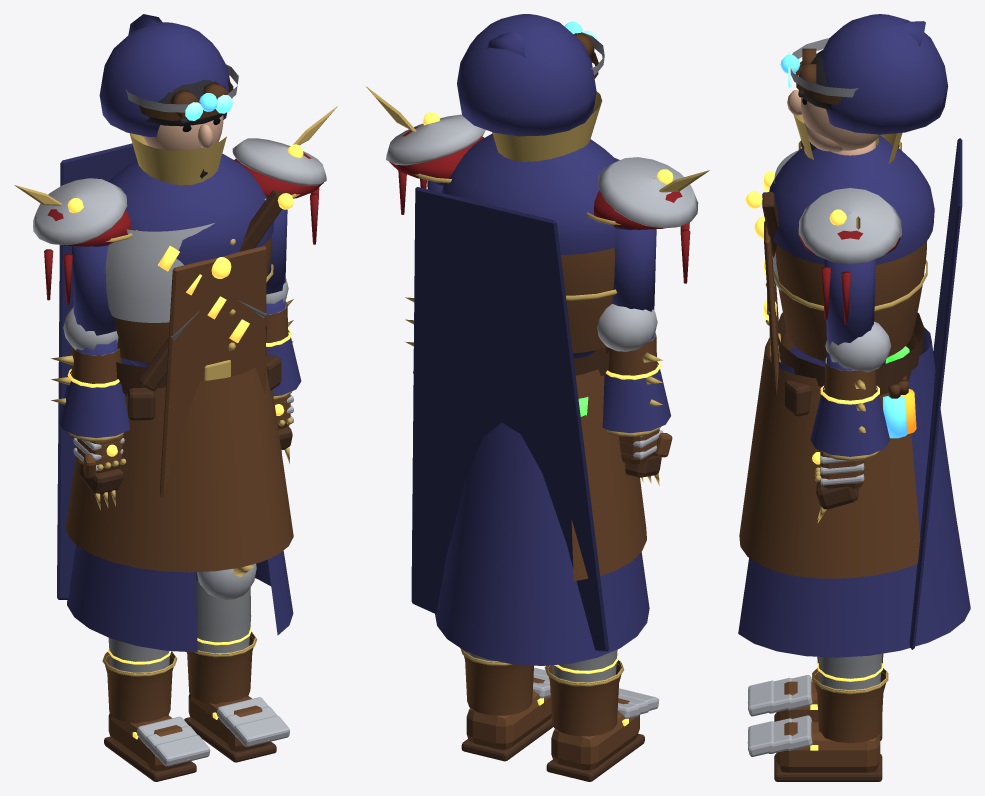
File: hero_alchemist.glb
The picture shows the model from 3 angles, left to right: view 1: azimuth 30°, elevation 25°; view 2: azimuth 150°, elevation 25°; view 3: azimuth 270°, elevation 25°; orthographic projection. The views are drawn at different scales.
Parts seen in each view (by area): view 1: coattail, apron, robeskirt, mantle, hood, breastplate, cape, disc.001, sleeve.001, cuff.001, upperarm.001, cuff (+27 smaller); view 2: cape, robeskirt, hood, mantle, coattail, disc.001, coat, cuff.001, sleeve.001, cuff, upperarm.001, disc (+14 smaller); view 3: robeskirt, coattail, hood, mantle, coat, disc, cape, sleeve, cuff, boot, upperarm, belt.001 (+27 smaller).
Boxes of the visible parts, x1,y1,x2,y2 form: coattail: [65, 347, 293, 572]; apron: [160, 246, 266, 497]; robeskirt: [67, 544, 293, 652]; mantle: [108, 153, 273, 265]; hood: [99, 22, 230, 136]; breastplate: [105, 223, 214, 322]; cape: [57, 143, 136, 599]; disc.001: [33, 178, 127, 245]; sleeve.001: [58, 370, 129, 438]; cuff.001: [104, 651, 175, 723]; upperarm.001: [72, 245, 116, 335]; cuff: [186, 632, 255, 704]; cape: [411, 187, 608, 651]; robeskirt: [435, 422, 649, 665]; hood: [457, 14, 596, 136]; mantle: [441, 133, 617, 254]; coattail: [571, 369, 646, 580]; disc.001: [598, 157, 698, 228]; coat: [561, 247, 614, 353]; cuff.001: [547, 660, 622, 736]; sleeve.001: [602, 361, 670, 433]; cuff: [464, 650, 533, 715]; upperarm.001: [612, 228, 656, 311]; disc: [386, 114, 485, 165]; robeskirt: [738, 327, 970, 657]; coattail: [739, 338, 920, 578]; hood: [821, 14, 947, 134]; mantle: [769, 135, 934, 264]; coat: [776, 145, 927, 360]; disc: [799, 188, 901, 264]; cape: [909, 138, 962, 649]; sleeve: [810, 386, 889, 456]; cuff: [813, 668, 886, 743]; boot: [776, 722, 880, 772]; upperarm: [824, 259, 875, 345]; belt.001: [777, 312, 924, 386].
Bounding box in the file's own units: 0.9725 × 2.02 × 0.582.
